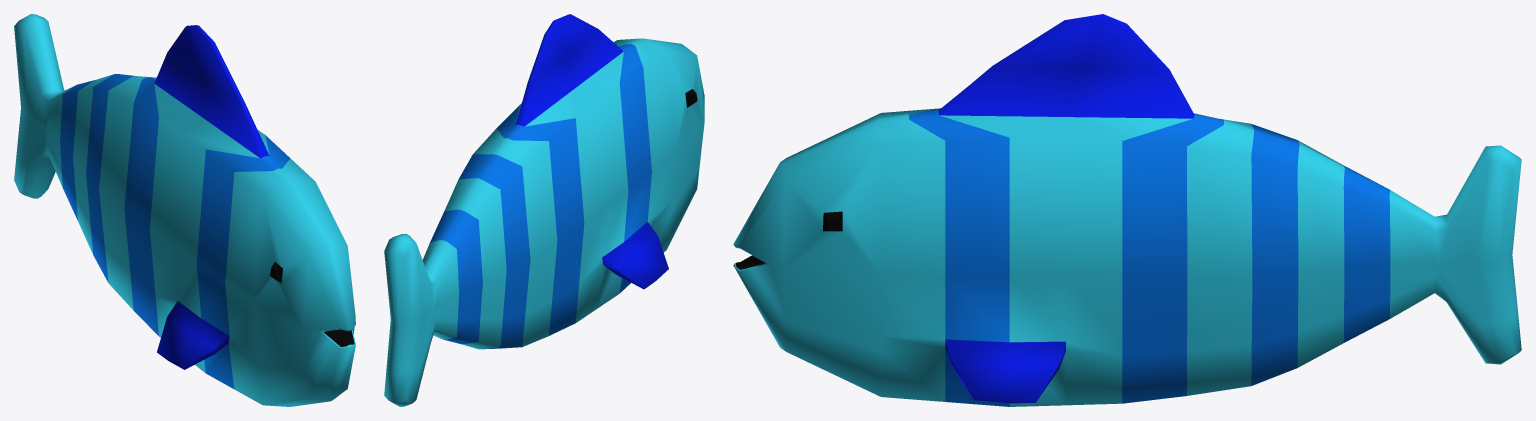
The model's file is Fish.fbx.
3 renders of one model, left to right at view 1: azimuth 30°, elevation 25°; view 2: azimuth 150°, elevation 25°; view 3: azimuth 270°, elevation 25°, orthographic. The views are drawn at different scales.
Visible parts, largest first — view 1: Cube; view 2: Cube; view 3: Cube.
Part boxes in pixels (<box>): Cube: <box>14,14,355,406</box>; Cube: <box>384,14,704,406</box>; Cube: <box>733,14,1521,406</box>.
Bounding box in the file's own units: 203 × 458 × 851.
